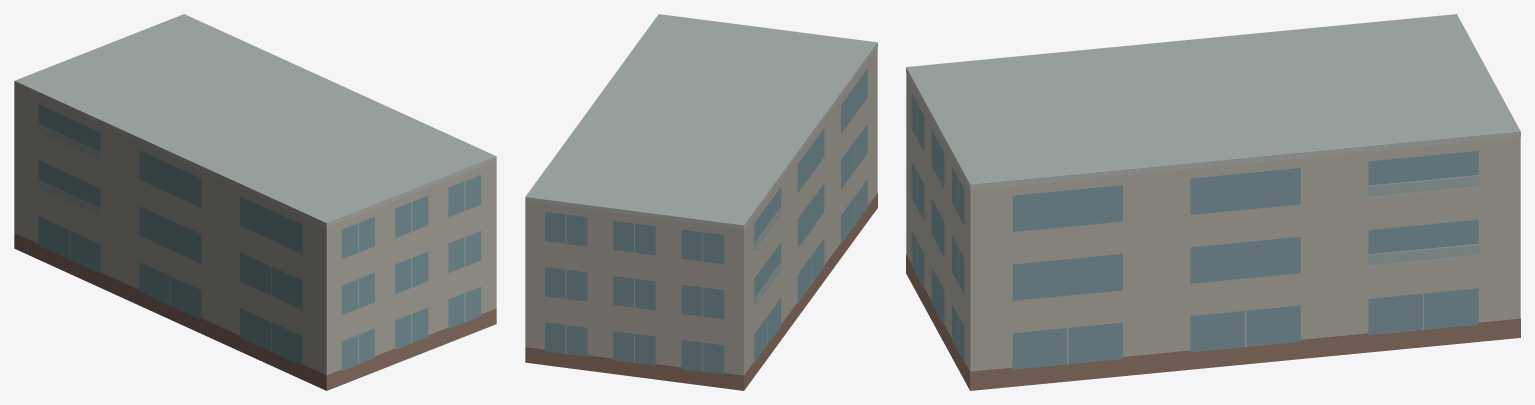
File: survey-upis-32800969.glb
3 views of the same model, side by side, from view 1: azimuth 30°, elevation 25°; view 2: azimuth 150°, elevation 25°; view 3: azimuth 270°, elevation 25° (orthographic). The views are drawn at different scales.
Parts seen in each view (by area): view 1: survey-upis-32800969.tmp; view 2: survey-upis-32800969.tmp; view 3: survey-upis-32800969.tmp.
Boxes of the visible parts, x1,y1,x2,y2 form: survey-upis-32800969.tmp: (14, 14, 496, 390); survey-upis-32800969.tmp: (525, 14, 877, 390); survey-upis-32800969.tmp: (906, 14, 1520, 390).
Size of the model in its own units: 16.24 by 9.15 by 24.72.
